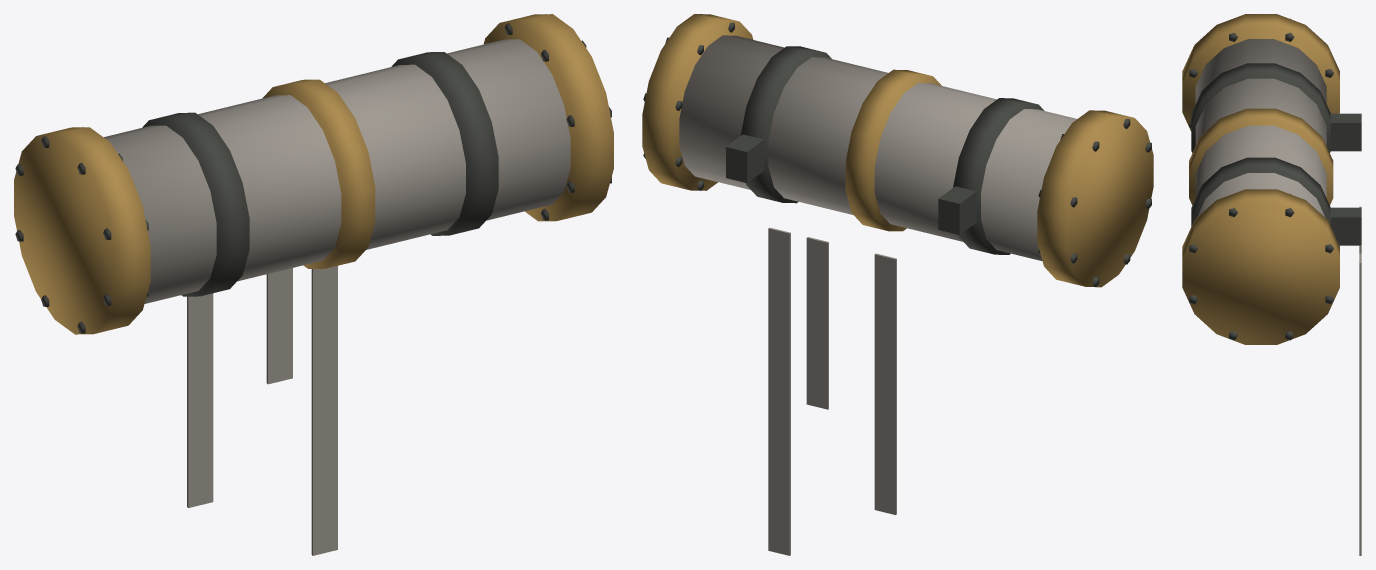
The model's file is b2_pipe_drip.glb.
3 renders of one model, left to right at view 1: azimuth 30°, elevation 25°; view 2: azimuth 150°, elevation 25°; view 3: azimuth 270°, elevation 25°, orthographic. The views are drawn at different scales.
Parts seen in each view (by area): view 1: b2_pipe_drip; view 2: b2_pipe_drip; view 3: b2_pipe_drip.
Part boxes in pixels (x1,y1,x2,y2): b2_pipe_drip: (14, 14, 613, 555); b2_pipe_drip: (642, 14, 1153, 555); b2_pipe_drip: (1182, 14, 1361, 555).
Size of the model in its own units: 2.02 by 2.05 by 0.8031.
